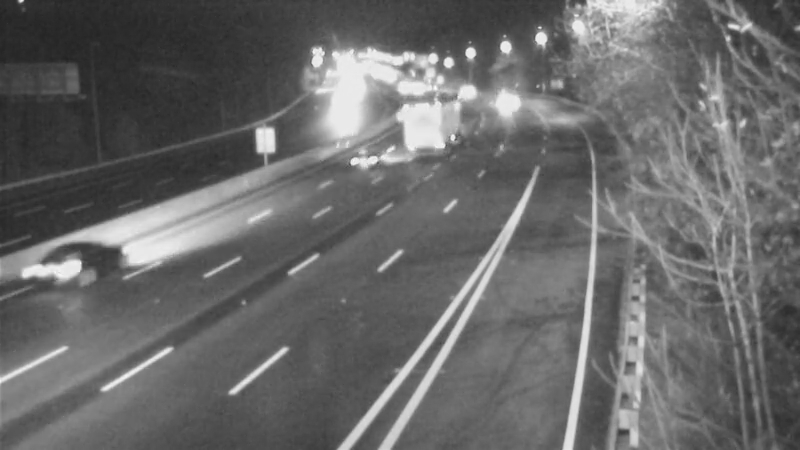vehicle: (323, 118, 403, 198), (14, 228, 94, 308), (442, 65, 492, 115), (473, 75, 523, 125), (399, 100, 449, 150)
